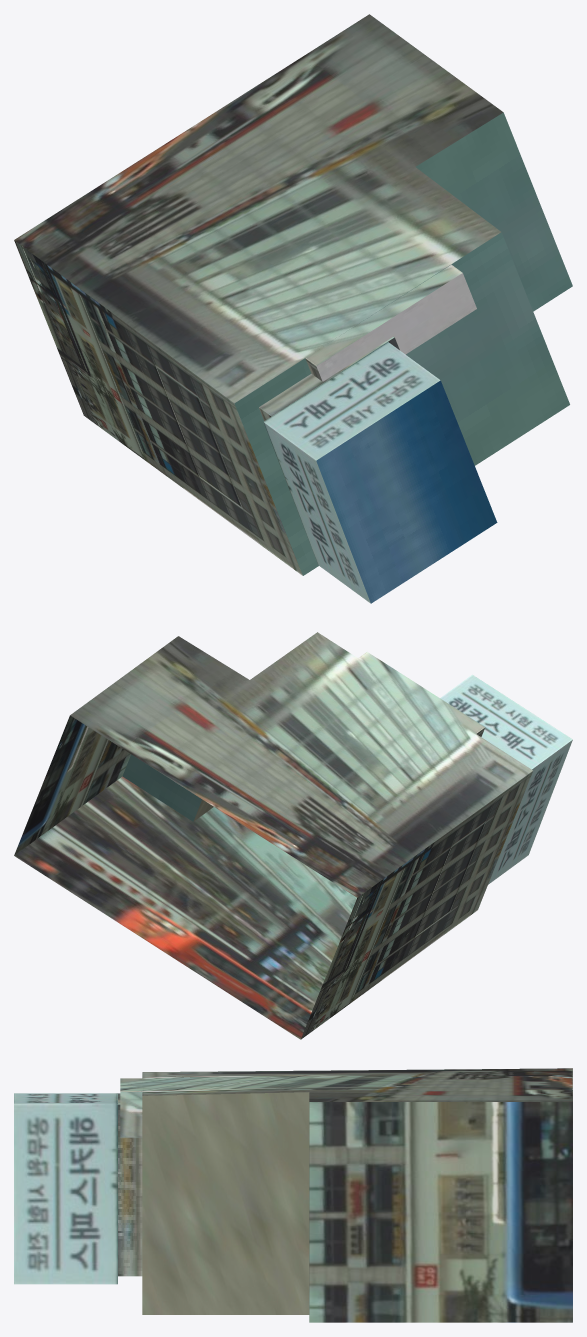
3 views of the same model, one above another, from view 1: azimuth 30°, elevation 25°; view 2: azimuth 150°, elevation 25°; view 3: azimuth 270°, elevation 25° (orthographic). The views are drawn at different scales.
Parts seen in each view (by area): view 1: IndexedFaceSet__2_0, IndexedFaceSet, IndexedFaceSet__4_0, IndexedFaceSet__12_0, IndexedFaceSet__5_0, IndexedFaceSet__16_0, IndexedFaceSet__15_0, IndexedFaceSet__21_0, IndexedFaceSet__20_0, IndexedFaceSet__11_0; view 2: IndexedFaceSet__2_0, IndexedFaceSet__1_0, IndexedFaceSet, IndexedFaceSet__6_0, IndexedFaceSet__16_0, IndexedFaceSet__15_0, IndexedFaceSet__5_0, IndexedFaceSet__20_0; view 3: IndexedFaceSet__6_0, IndexedFaceSet__3_0, IndexedFaceSet__13_0, IndexedFaceSet__2_0, IndexedFaceSet__8_0, IndexedFaceSet__16_0, IndexedFaceSet__18_0.
Part boxes in pixels (x1=…): IndexedFaceSet__2_0: x1=14, y1=14, x2=503, y2=403; IndexedFaceSet: x1=14, y1=240, x2=302, y2=575; IndexedFaceSet__4_0: x1=234, y1=232, x2=569, y2=575; IndexedFaceSet__12_0: x1=316, y1=380, x2=497, y2=603; IndexedFaceSet__5_0: x1=416, y1=112, x2=572, y2=311; IndexedFaceSet__16_0: x1=264, y1=342, x2=440, y2=460; IndexedFaceSet__15_0: x1=263, y1=422, x2=370, y2=603; IndexedFaceSet__21_0: x1=316, y1=273, x2=476, y2=381; IndexedFaceSet__20_0: x1=305, y1=264, x2=462, y2=366; IndexedFaceSet__11_0: x1=259, y1=336, x2=394, y2=416; IndexedFaceSet__2_0: x1=70, y1=632, x2=532, y2=897; IndexedFaceSet__1_0: x1=14, y1=776, x2=356, y2=1039; IndexedFaceSet: x1=301, y1=771, x2=532, y2=1039; IndexedFaceSet__6_0: x1=14, y1=715, x2=130, y2=855; IndexedFaceSet__16_0: x1=440, y1=674, x2=572, y2=769; IndexedFaceSet__15_0: x1=488, y1=740, x2=572, y2=884; IndexedFaceSet__5_0: x1=122, y1=754, x2=201, y2=821; IndexedFaceSet__20_0: x1=358, y1=652, x2=484, y2=733; IndexedFaceSet__6_0: x1=309, y1=1102, x2=572, y2=1322; IndexedFaceSet__3_0: x1=142, y1=1092, x2=309, y2=1314; IndexedFaceSet__13_0: x1=14, y1=1103, x2=117, y2=1284; IndexedFaceSet__2_0: x1=142, y1=1068, x2=572, y2=1101; IndexedFaceSet__8_0: x1=118, y1=1104, x2=142, y2=1276; IndexedFaceSet__16_0: x1=14, y1=1093, x2=117, y2=1103; IndexedFaceSet__18_0: x1=120, y1=1092, x2=142, y2=1137.
Size of the model in its own units: 42.53 by 31.75 by 49.35.
18 materials, 18 textured.
